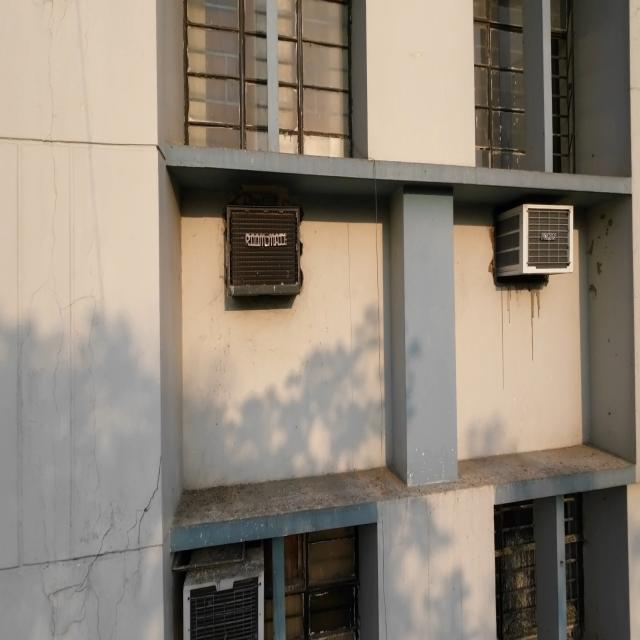crack: (31, 449, 172, 639)
